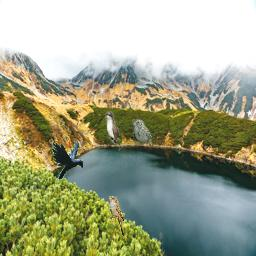Crow: (52, 140, 83, 180)
Cuckoo: (105, 111, 122, 151)
Sparrow: (132, 118, 155, 147), (109, 196, 124, 236)
